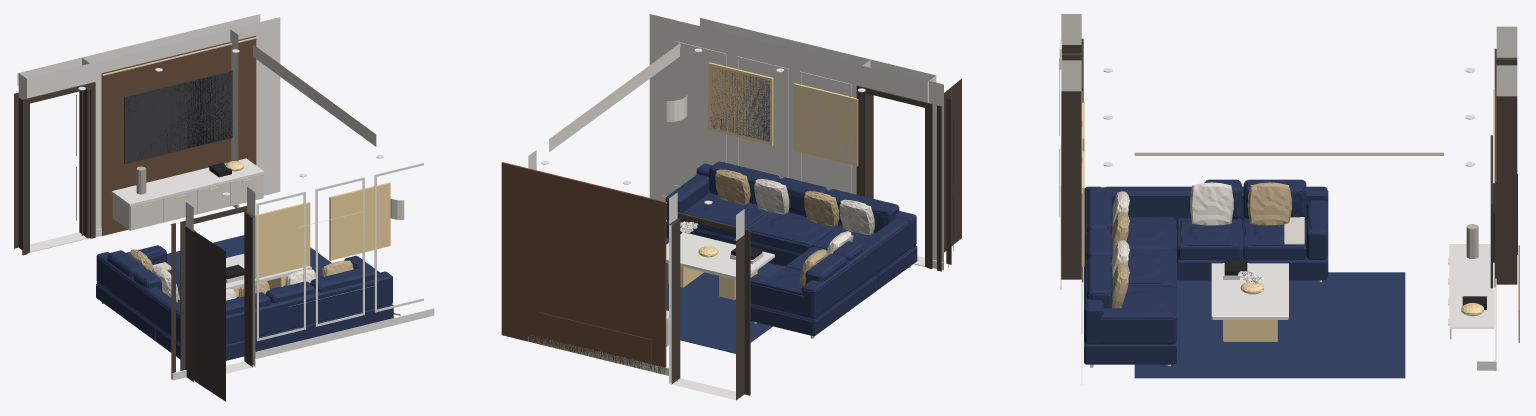
Rendered from LIVING.glb.
3 renders of one model, left to right at view 1: azimuth 30°, elevation 25°; view 2: azimuth 150°, elevation 25°; view 3: azimuth 270°, elevation 25°, orthographic. The views are drawn at different scales.
Parts seen in each view (by area): view 1: WEB_LIVING; view 2: WEB_LIVING; view 3: WEB_LIVING.
Boxes of the visible parts, <box> form: WEB_LIVING: <box>14,14,434,401</box>; WEB_LIVING: <box>501,14,961,400</box>; WEB_LIVING: <box>1059,14,1519,384</box>.
Size of the model in its own units: 4.15 by 2.5 by 5.49.
